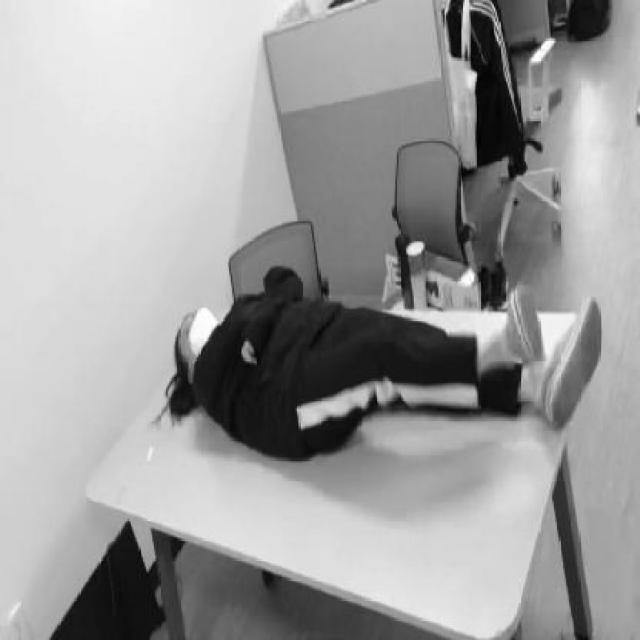person: (172, 264, 602, 460)
